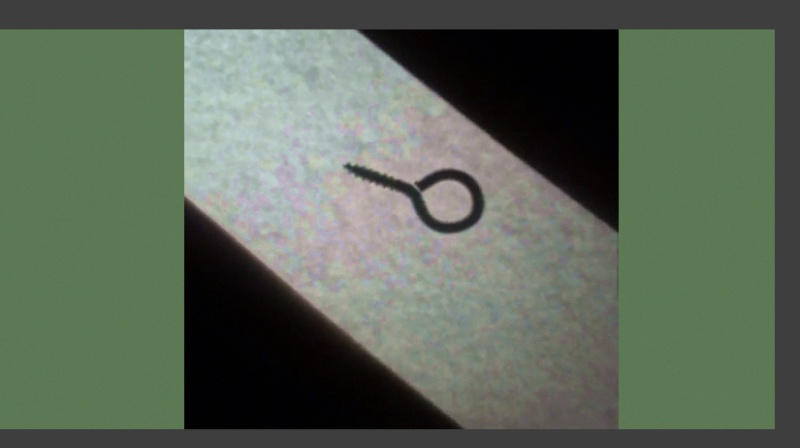O001: (340, 159, 488, 238)
